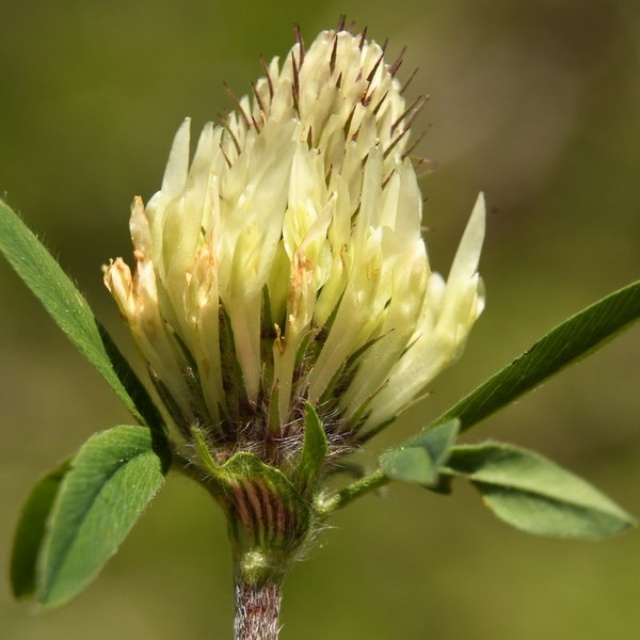obstacle: (35, 9, 636, 621)
